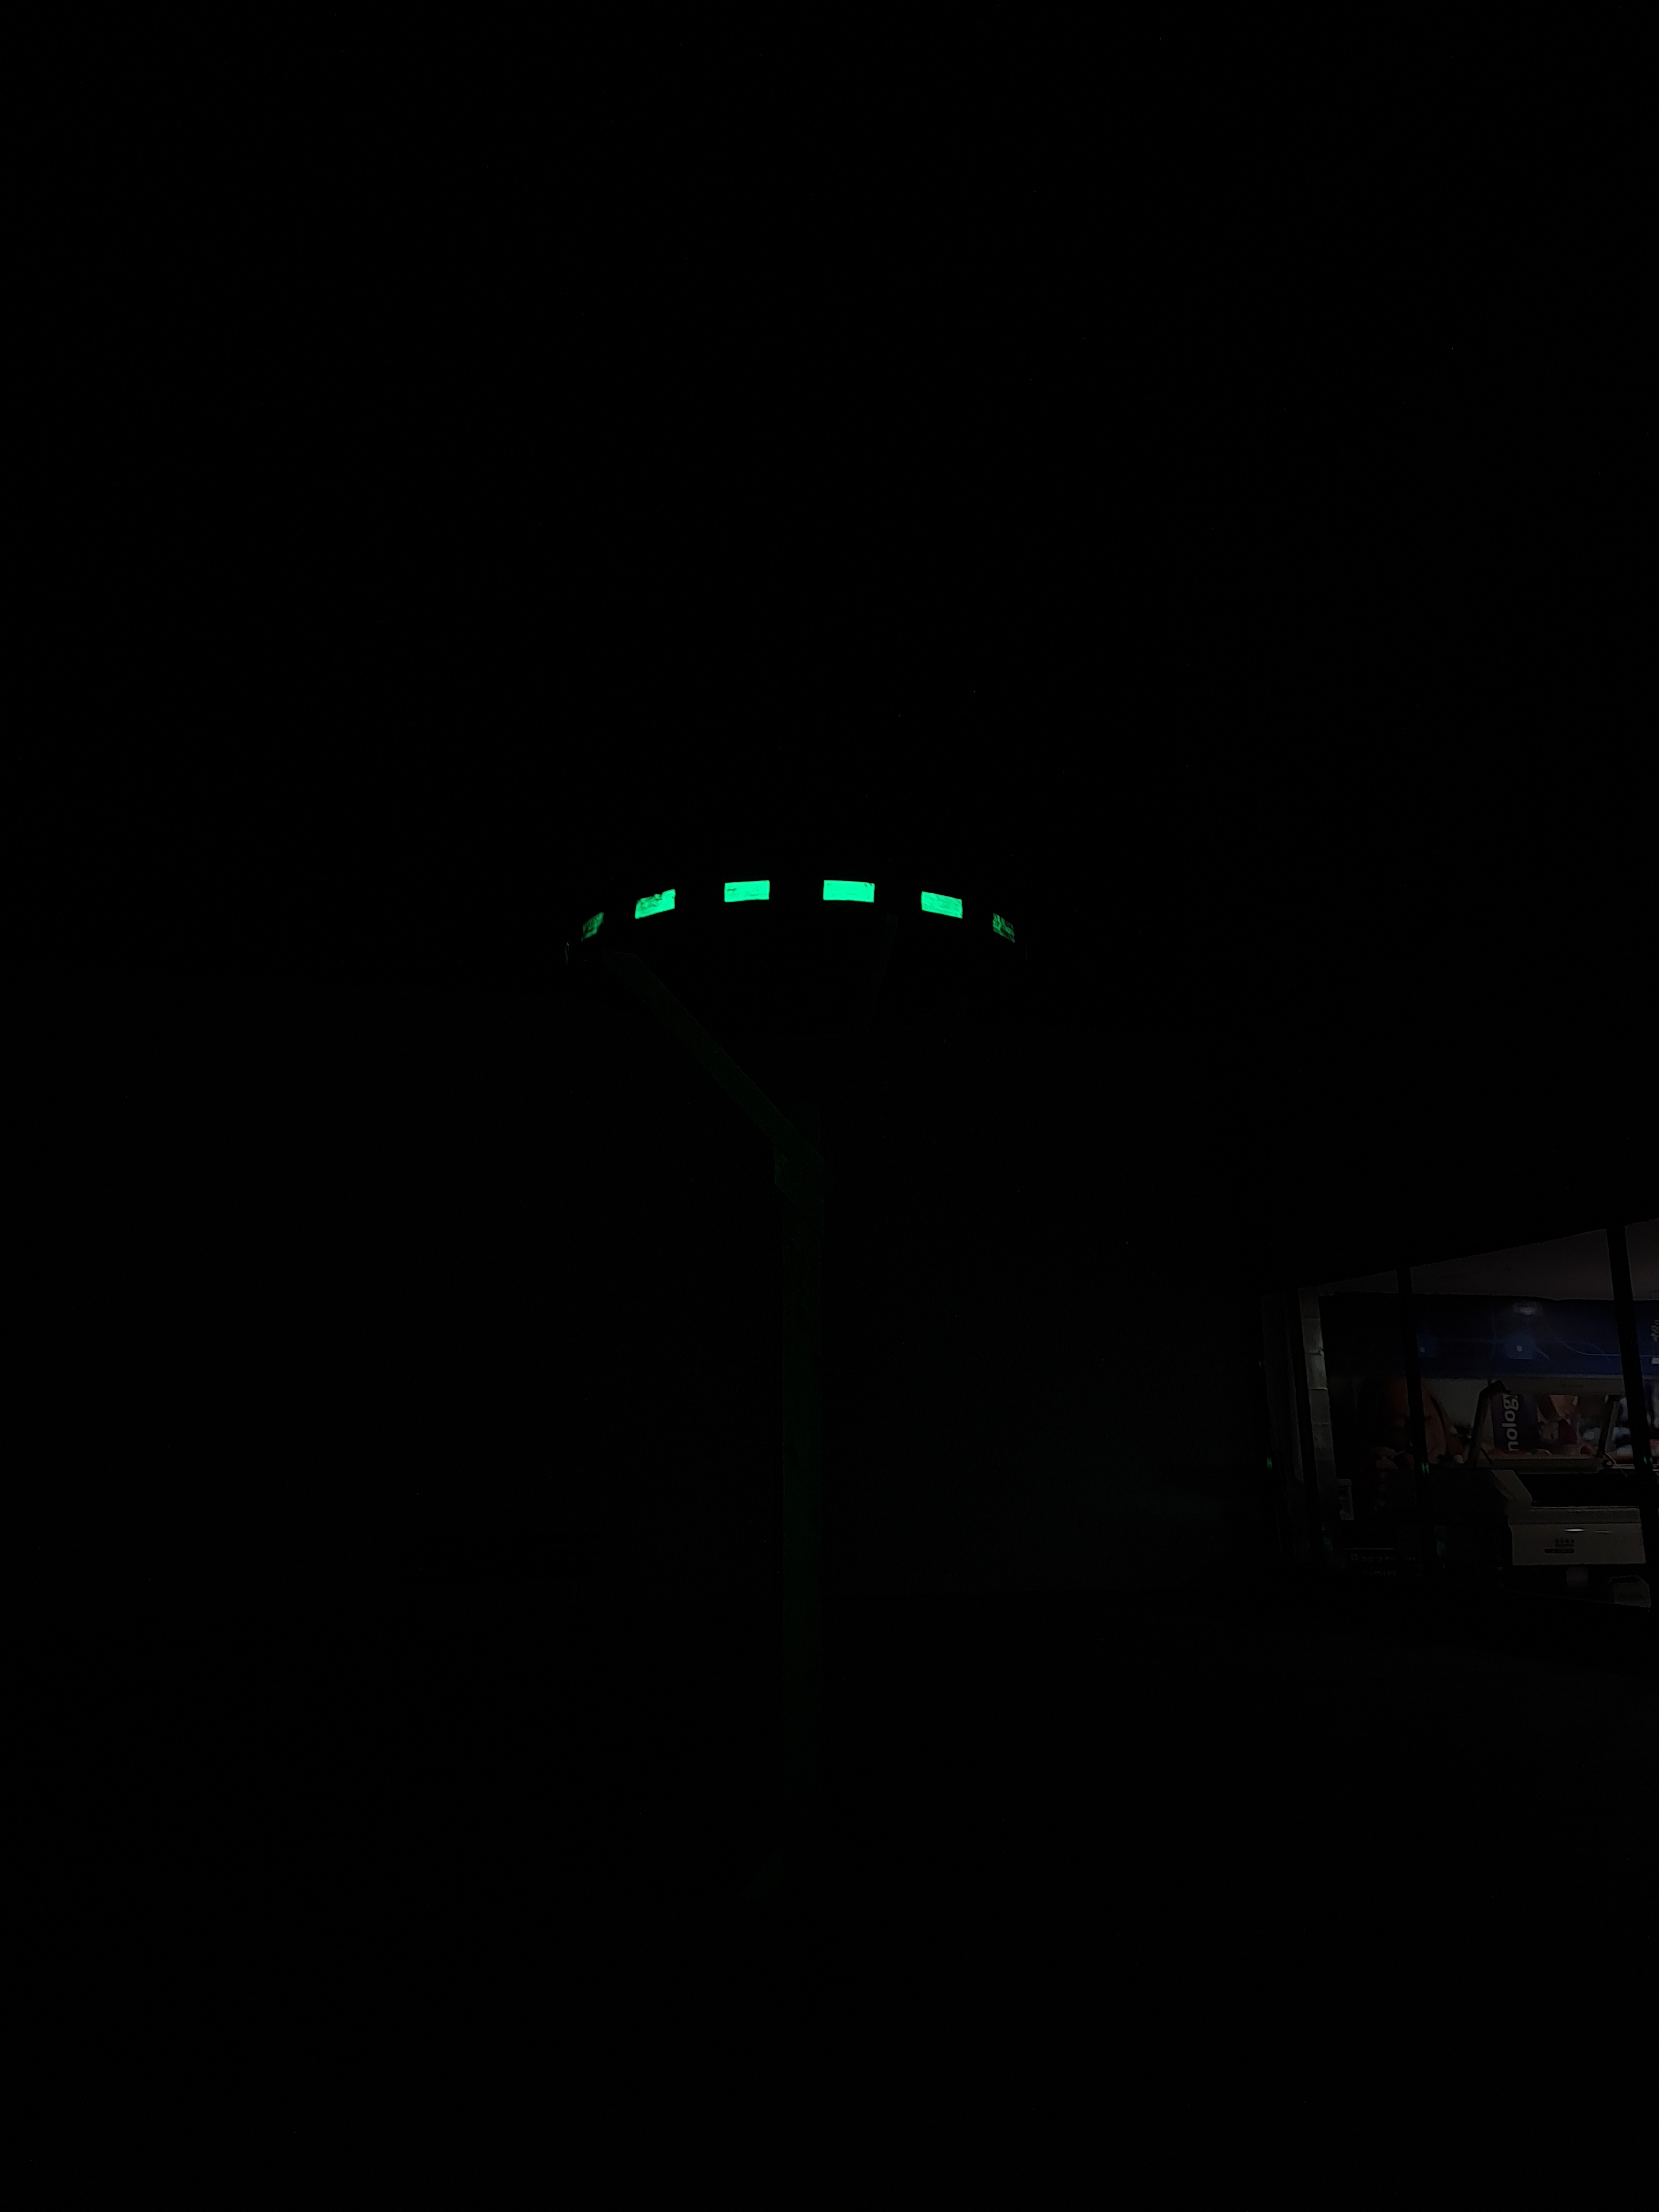hoop: (538, 833, 1047, 968)
